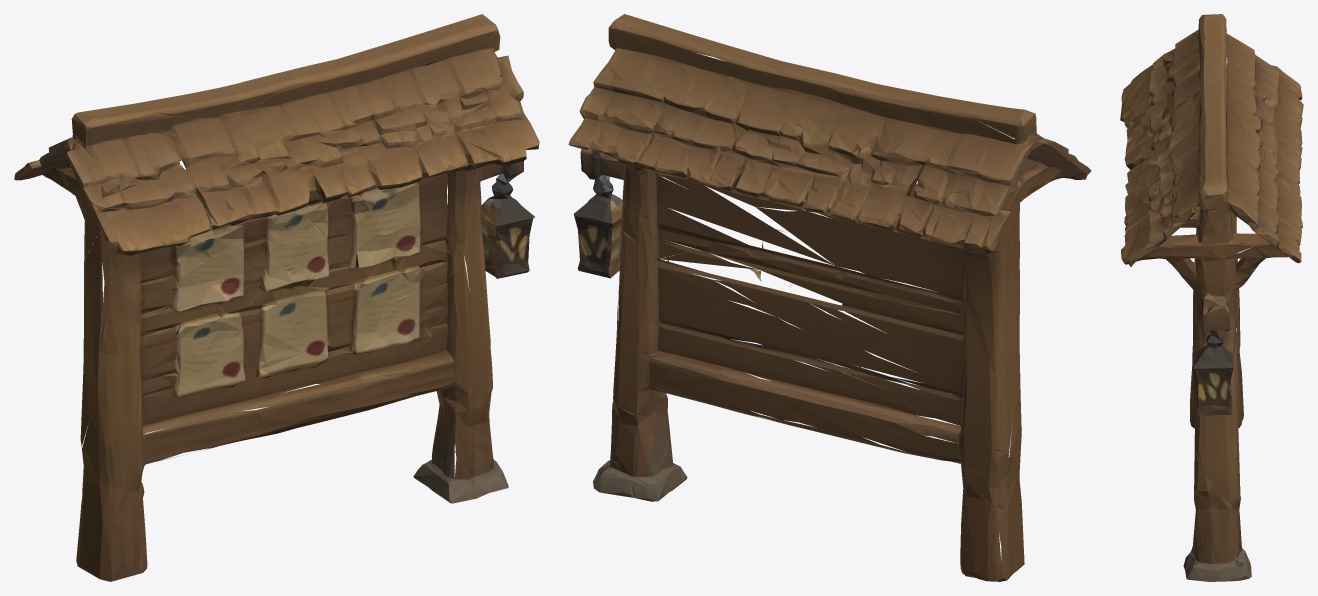
File: notice_board.glb
The picture shows the model from 3 angles, left to right: view 1: azimuth 30°, elevation 25°; view 2: azimuth 150°, elevation 25°; view 3: azimuth 270°, elevation 25°; orthographic projection. The views are drawn at different scales.
Visible parts, largest first — view 1: geometry_0; view 2: geometry_0; view 3: geometry_0.
Boxes of the visible parts, box(x1,y1,x2,y2) form: geometry_0: box(14, 14, 539, 581); geometry_0: box(568, 14, 1091, 581); geometry_0: box(1120, 14, 1303, 581).
Size of the model in its own units: 2 by 1.91 by 0.8021.
1 material, 1 textured.
